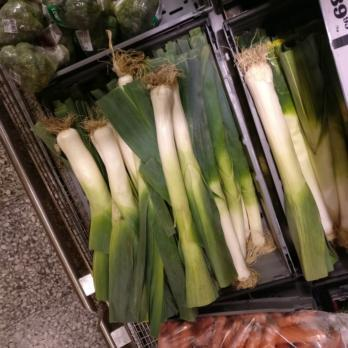Leek Leaves: (87, 72, 317, 265), (238, 29, 336, 278), (158, 40, 203, 116)
